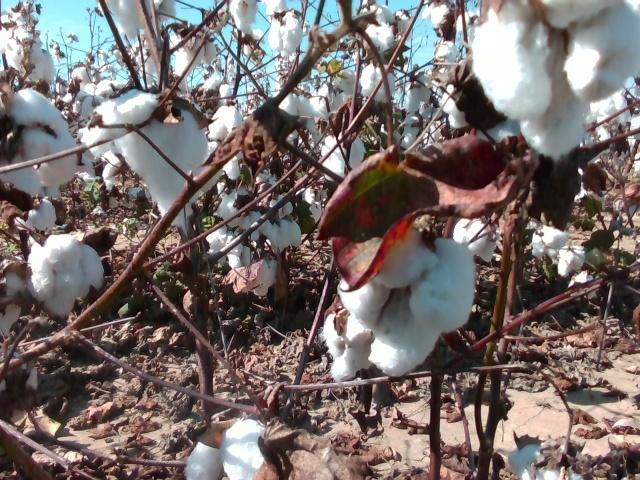cotton_ready: (473, 0, 640, 162), (338, 227, 476, 377), (79, 89, 208, 235), (0, 87, 79, 192), (28, 234, 105, 316), (185, 418, 266, 480), (0, 10, 57, 89), (323, 309, 376, 383), (97, 1, 178, 39), (509, 444, 584, 480), (207, 105, 241, 180), (171, 28, 218, 80), (279, 94, 329, 142), (0, 255, 28, 338), (322, 133, 366, 182), (361, 5, 402, 54), (454, 219, 498, 264), (216, 189, 263, 229), (79, 148, 122, 191), (78, 79, 122, 120), (268, 11, 304, 58), (206, 226, 243, 270), (14, 196, 58, 233), (253, 219, 302, 251), (381, 112, 423, 149), (272, 194, 323, 224), (360, 61, 396, 101), (442, 82, 470, 126), (533, 225, 568, 260), (405, 70, 432, 114), (313, 81, 345, 116), (421, 1, 456, 29), (202, 77, 233, 108), (229, 0, 257, 32), (559, 244, 586, 276), (332, 69, 361, 98), (255, 169, 279, 197), (435, 41, 460, 66)
